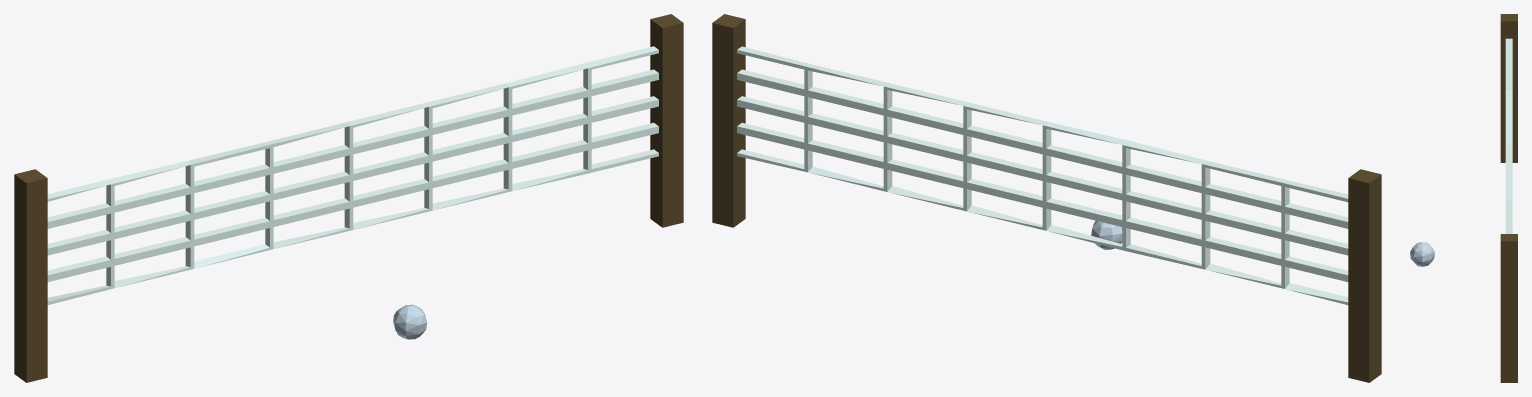
The model's file is Playground.fbx.
The picture shows the model from 3 angles, left to right: view 1: azimuth 30°, elevation 25°; view 2: azimuth 150°, elevation 25°; view 3: azimuth 270°, elevation 25°; orthographic projection. The views are drawn at different scales.
Visible parts, largest first — view 1: Playground, Ball; view 2: Playground, Ball; view 3: Playground, Ball.
Boxes of the visible parts, x1,y1,x2,y2 form: Playground: [14, 14, 683, 382]; Ball: [393, 304, 427, 339]; Playground: [712, 14, 1381, 382]; Ball: [1091, 221, 1122, 249]; Playground: [1500, 14, 1517, 382]; Ball: [1410, 242, 1434, 266].
Bounding box in the file's own units: 620 × 180 × 124.
